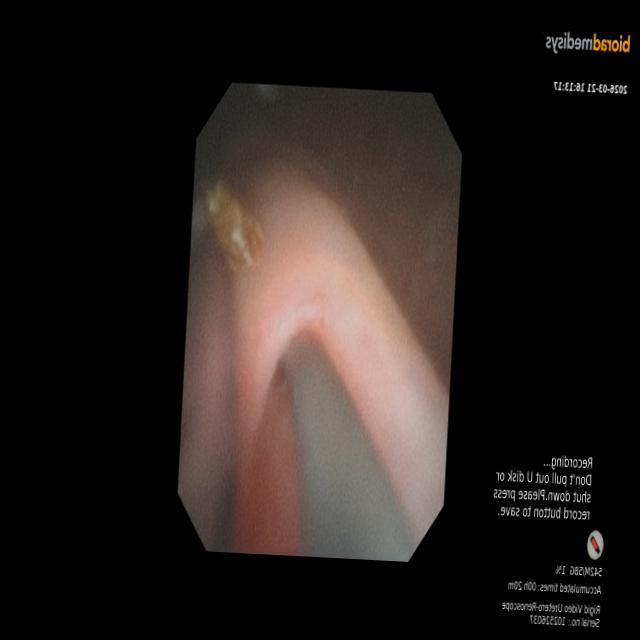stone-new: (206, 182, 264, 273)
